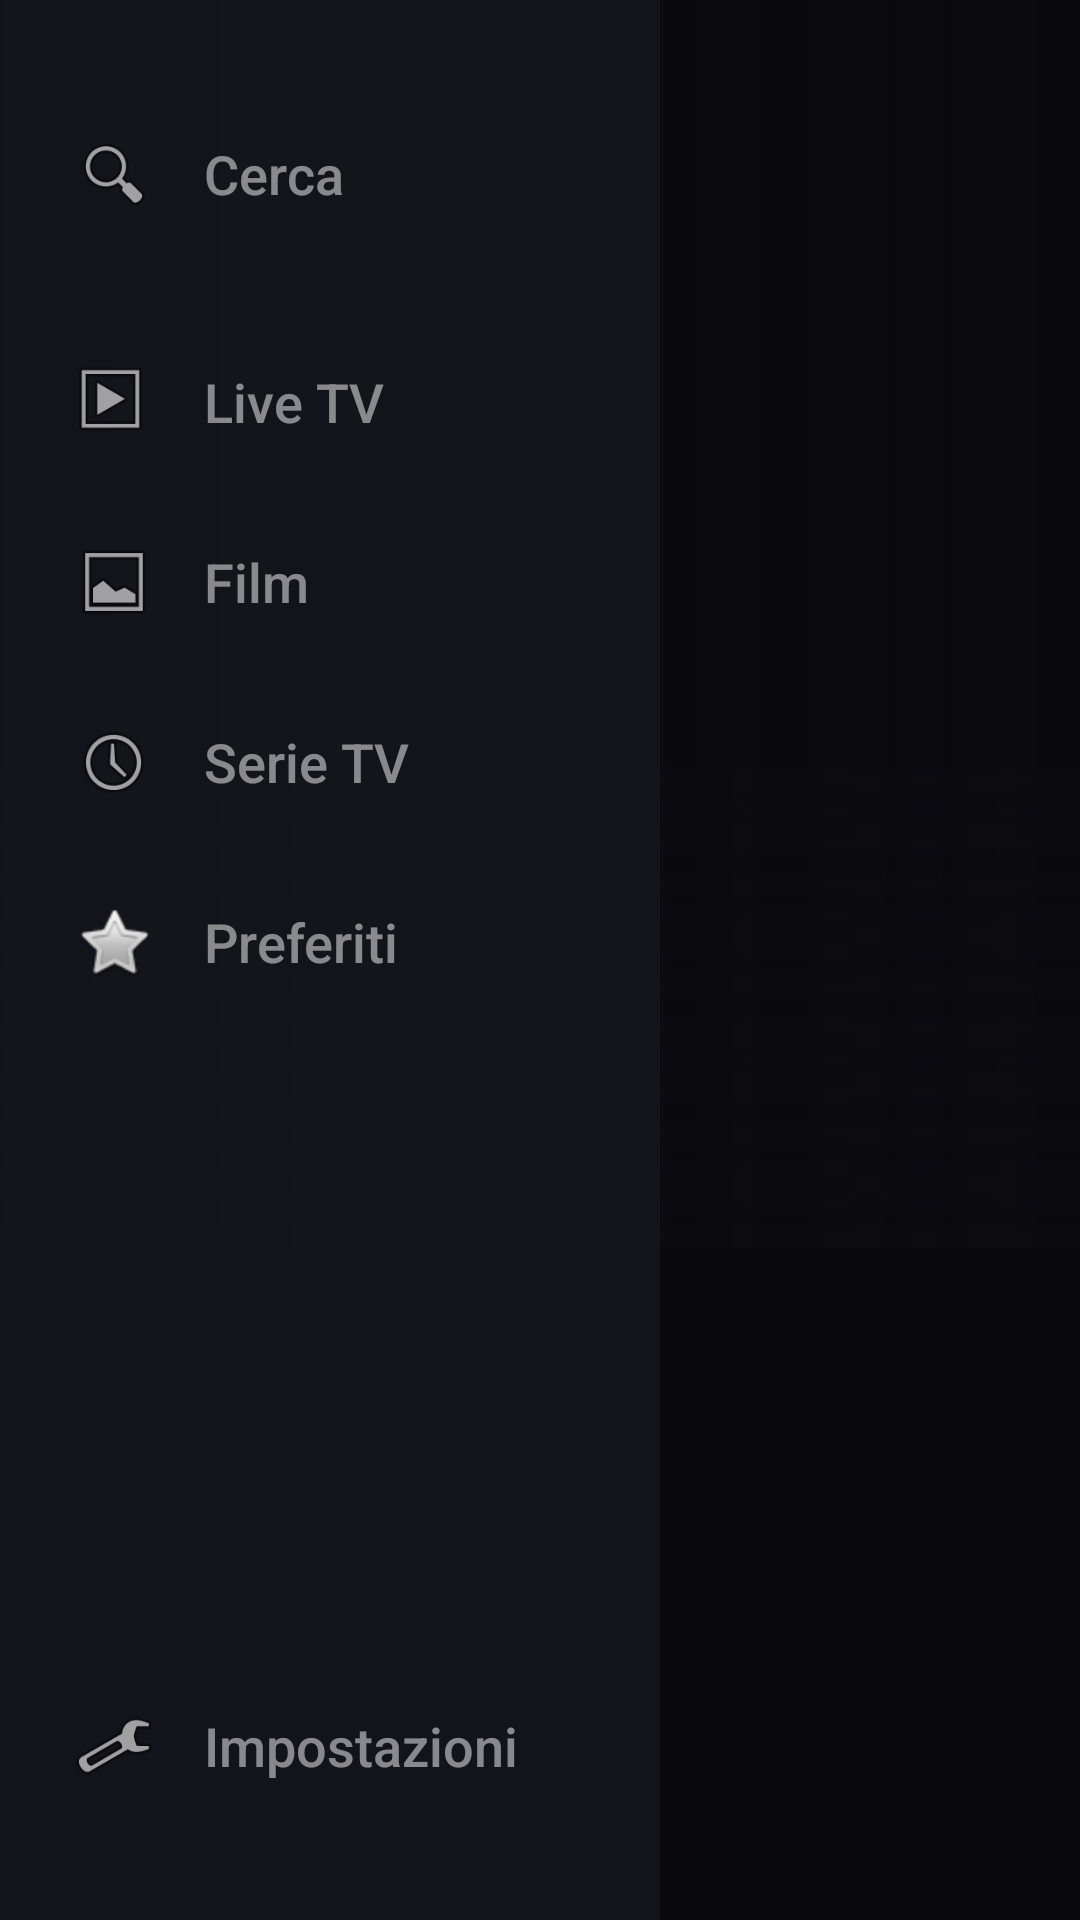

Icon bounding boxes for this 1080×1920 phone screenshot, format (x1, y1, x2, y2):
gallery: (85, 553, 143, 611)
manage: (79, 1720, 149, 1772)
recent history: (86, 735, 141, 790)
search: (86, 146, 142, 203)
slideshow: (81, 370, 140, 428)
star: (81, 910, 148, 974)
